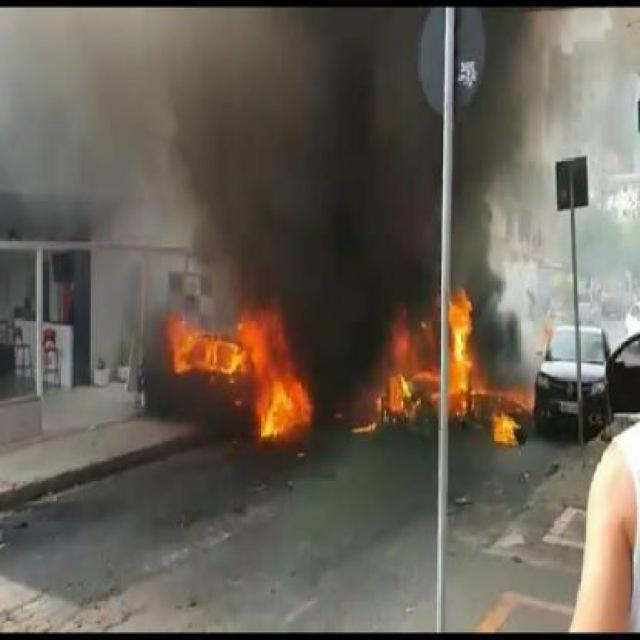Fire: (241, 311, 317, 438), (165, 317, 246, 380), (450, 288, 475, 418), (378, 365, 420, 418), (389, 316, 423, 364), (490, 410, 521, 450), (352, 418, 378, 436)
Smoke: (174, 0, 500, 308), (500, 1, 552, 162), (312, 303, 382, 414), (475, 302, 517, 378)
